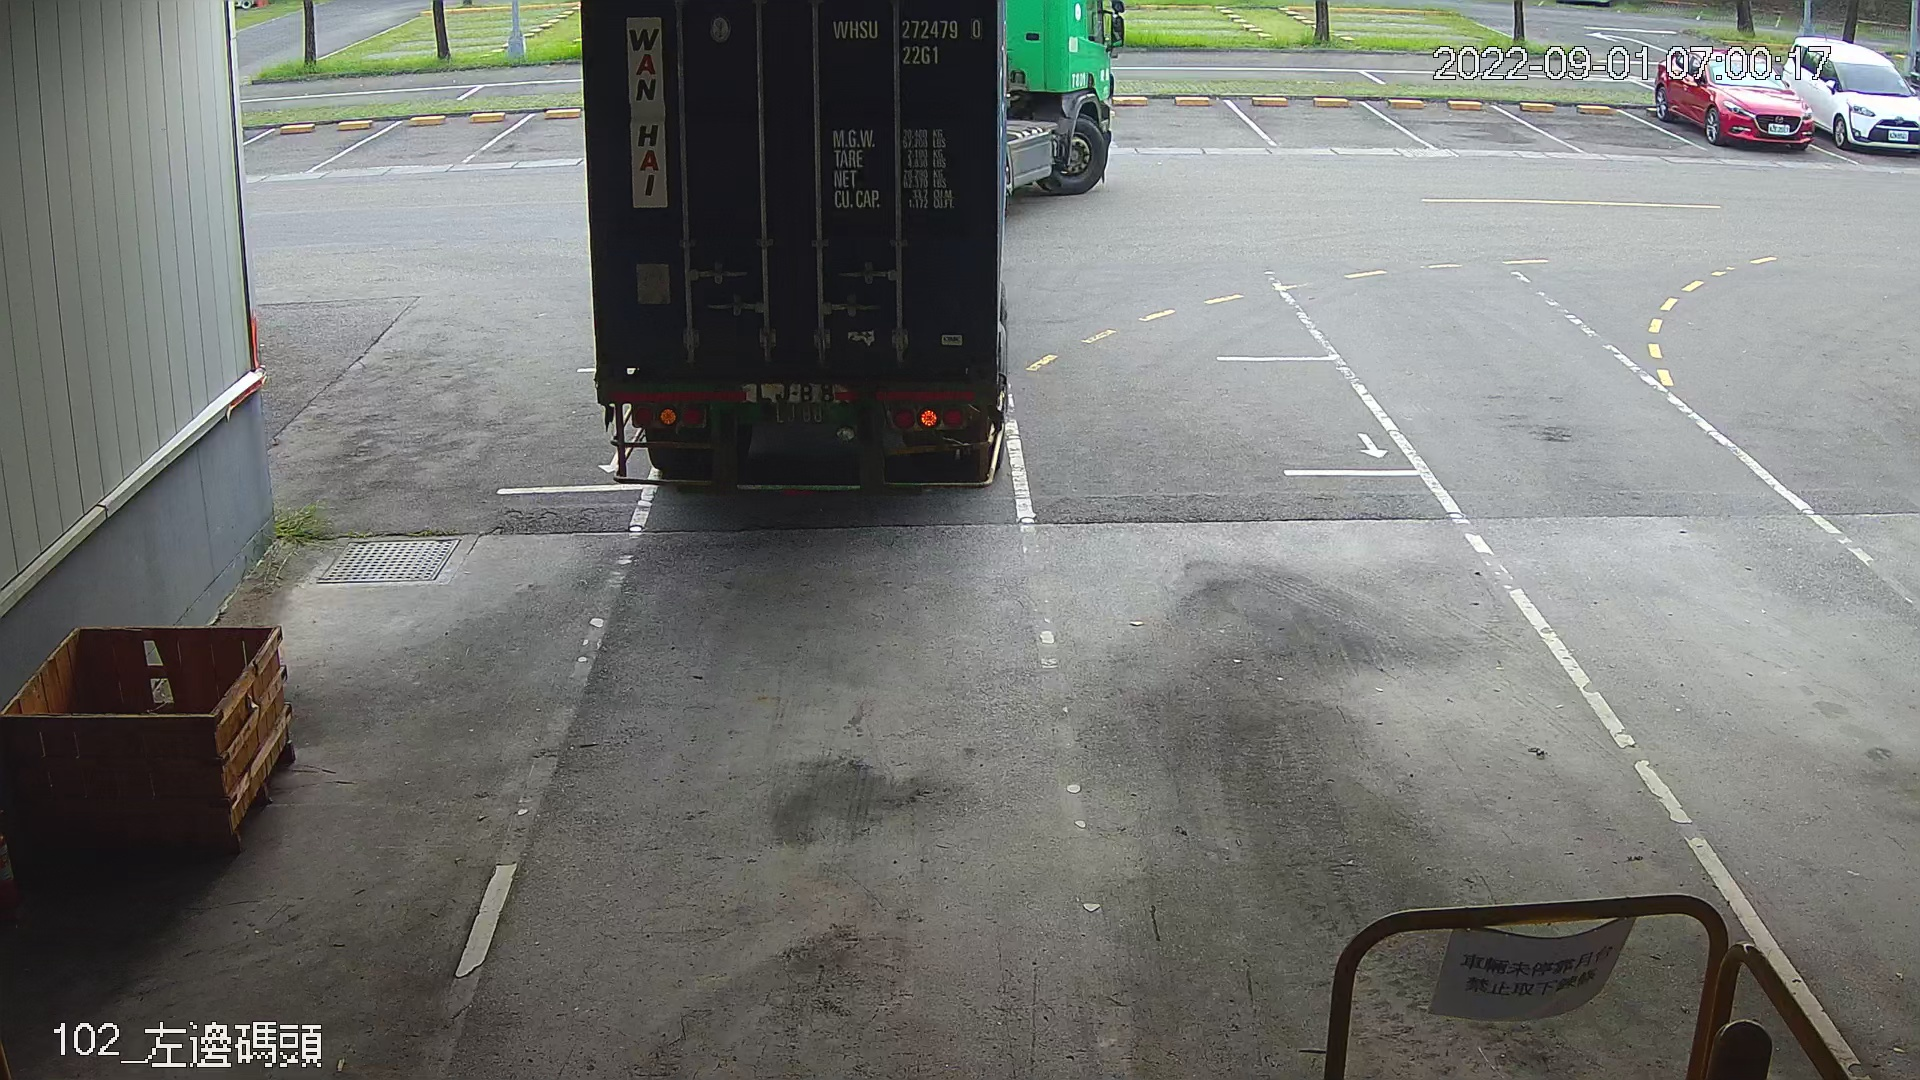container: (825, 8, 989, 73)
